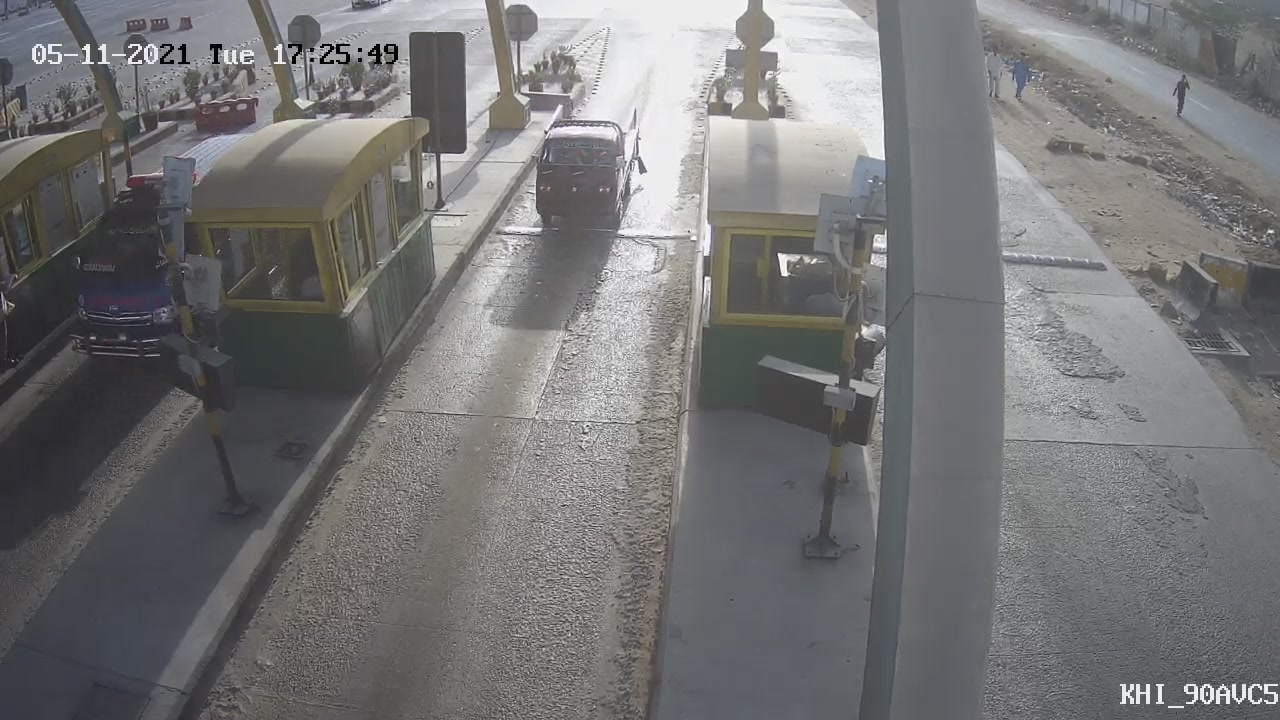F1: (511, 88, 661, 250)
